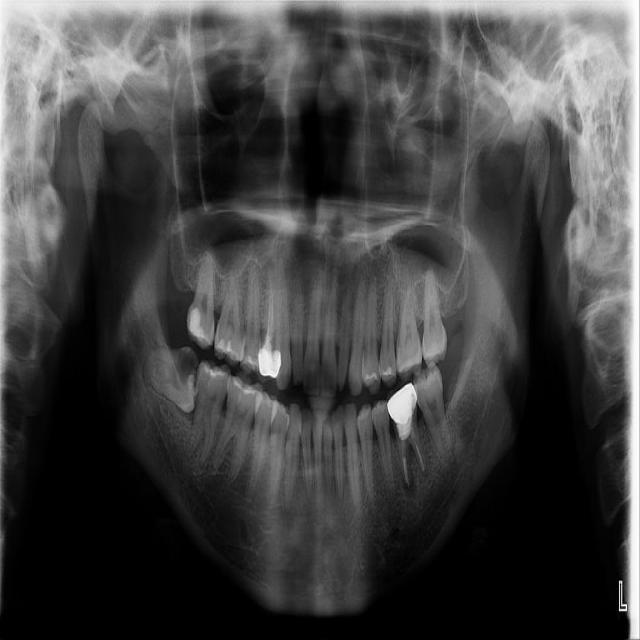Caries: (180, 350, 194, 371)
Crown: (387, 380, 416, 422), (256, 344, 283, 383)
Filling: (213, 325, 243, 360), (190, 310, 207, 341), (202, 365, 230, 383), (232, 378, 258, 396), (240, 354, 258, 372), (366, 373, 376, 386), (384, 367, 391, 377)
Periapical lesion: (398, 452, 439, 503)
Root Canal Treatment: (266, 293, 271, 339), (416, 444, 424, 471), (270, 294, 274, 338), (403, 456, 407, 481)
impacted tooth: (142, 346, 196, 413)
